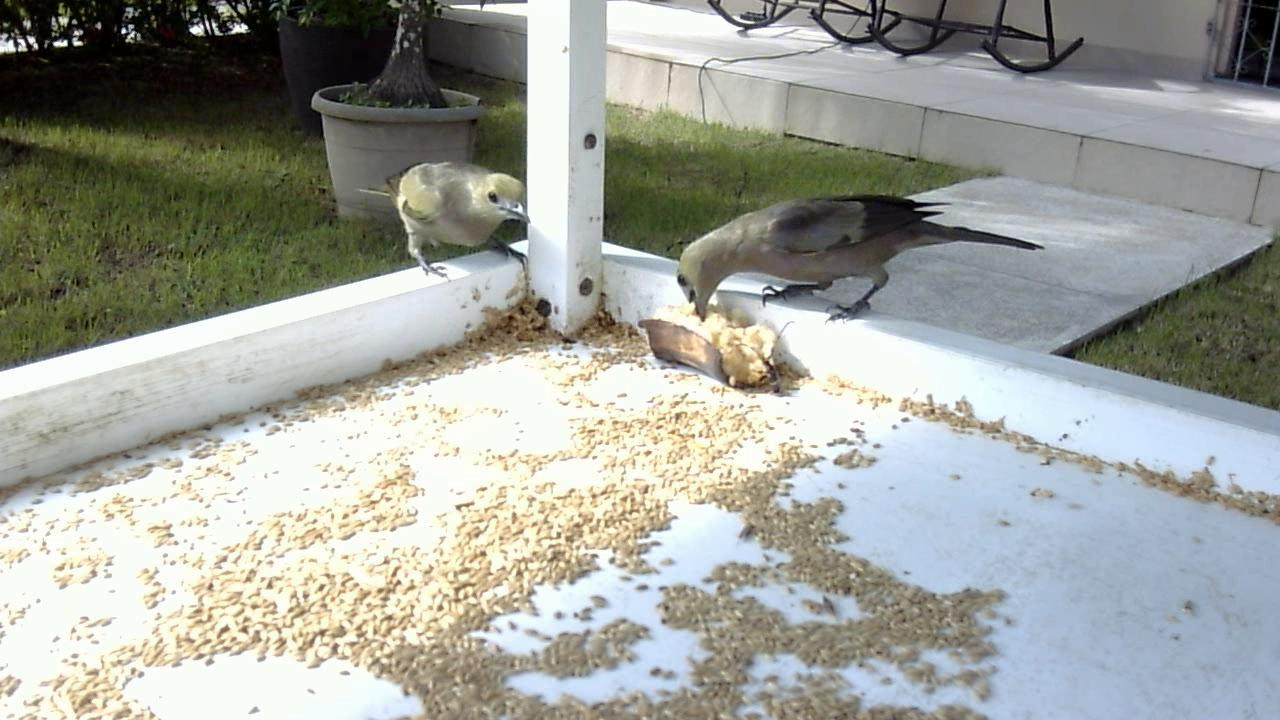sanhaco_do_coqueiro: (676, 173, 1056, 338), (331, 154, 531, 299)
